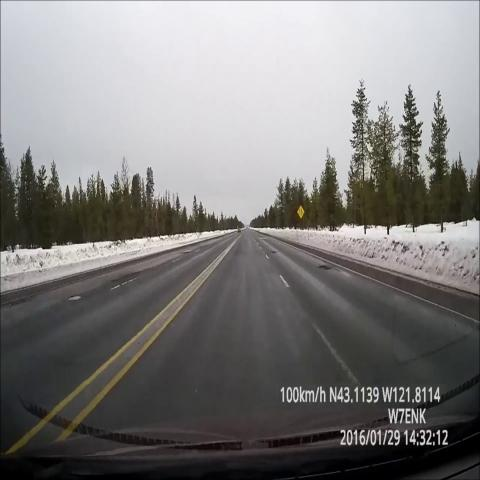pothole: (60, 280, 90, 310), (110, 268, 147, 279), (316, 261, 336, 275), (267, 245, 282, 261), (177, 250, 196, 258)
